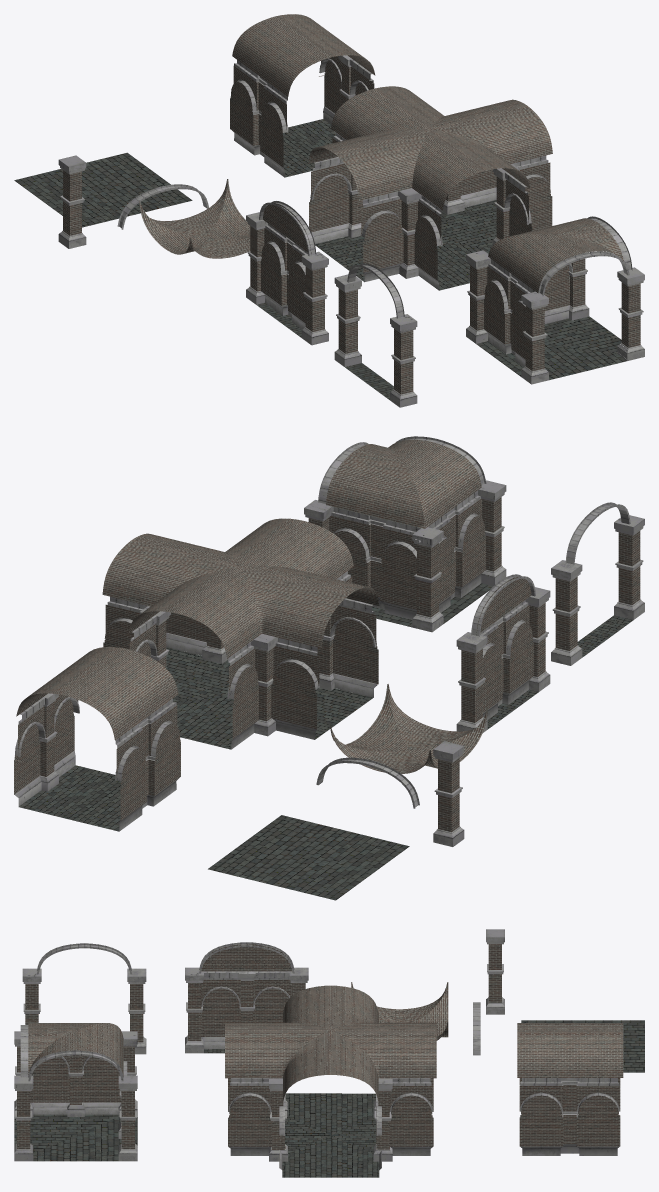
File: Modular environment kit.fbx
3 views of the same model, one above another, from view 1: azimuth 30°, elevation 25°; view 2: azimuth 150°, elevation 25°; view 3: azimuth 270°, elevation 25° (orthographic). The views are drawn at different scales.
Visible parts, largest first — view 1: TECHO PROFE004, Plane001, ARCO BUENO007, culumna nueva 050, Plane002, culumna nueva 051, TECHO PROFE006, culumna nueva 039, ARCO PROFE019; view 2: TECHO PROFE004, Plane001, ARCO BUENO007, culumna nueva 050, Plane002, culumna nueva 051, TECHO PROFE006, culumna nueva 039, ARCO PROFE019; view 3: TECHO PROFE004, Plane001, ARCO BUENO007, culumna nueva 050, culumna nueva 051, TECHO PROFE006, Plane002, culumna nueva 039, ARCO PROFE019.
Boxes of the visible parts, x1,y1,x2,y2 form: TECHO PROFE004: (308, 86, 552, 290); Plane001: (466, 216, 644, 384); ARCO BUENO007: (230, 14, 375, 177); culumna nueva 050: (246, 201, 328, 345); Plane002: (14, 152, 192, 227); culumna nueva 051: (334, 263, 417, 407); TECHO PROFE006: (139, 179, 250, 258); culumna nueva 039: (58, 155, 86, 248); ARCO PROFE019: (117, 184, 208, 229); TECHO PROFE004: (102, 518, 379, 749); Plane001: (304, 436, 506, 632); ARCO BUENO007: (14, 647, 180, 831); culumna nueva 050: (456, 574, 550, 732); Plane002: (208, 815, 409, 900); culumna nueva 051: (551, 502, 644, 665); TECHO PROFE006: (330, 684, 487, 773); culumna nueva 039: (433, 741, 464, 846); ARCO PROFE019: (316, 757, 419, 808); TECHO PROFE004: (225, 985, 436, 1177); Plane001: (14, 1023, 137, 1161); ARCO BUENO007: (517, 1023, 623, 1155); culumna nueva 050: (185, 942, 308, 1053); culumna nueva 051: (22, 943, 146, 1054); TECHO PROFE006: (351, 982, 448, 1040); Plane002: (521, 1020, 644, 1072); culumna nueva 039: (486, 929, 504, 1014); ARCO PROFE019: (473, 1002, 480, 1055).
Size of the model in its own units: 2158 by 636 by 3317.
